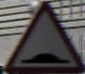Speed Breaker ahead: (6, 3, 74, 68)
